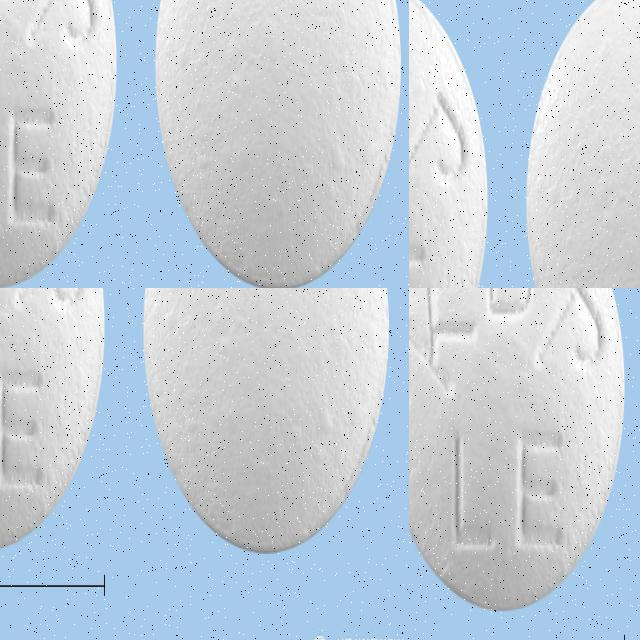Jecli - 500mg: (0, 13, 168, 288), (136, 0, 409, 101)
Levofxa: (144, 288, 389, 550), (0, 288, 107, 556)
Neobit Tab: (409, 288, 623, 608)
Septrin: (490, 0, 640, 195), (409, 196, 561, 288)
